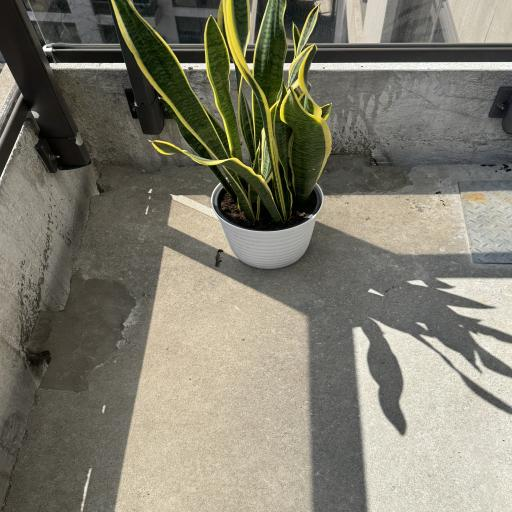Plant Pot: (209, 174, 324, 268)
